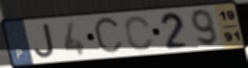2: (159, 10, 192, 53)
4: (63, 19, 88, 57)
9: (188, 8, 221, 48)
C: (91, 14, 125, 57), (123, 15, 155, 53)
J: (33, 22, 57, 59)
